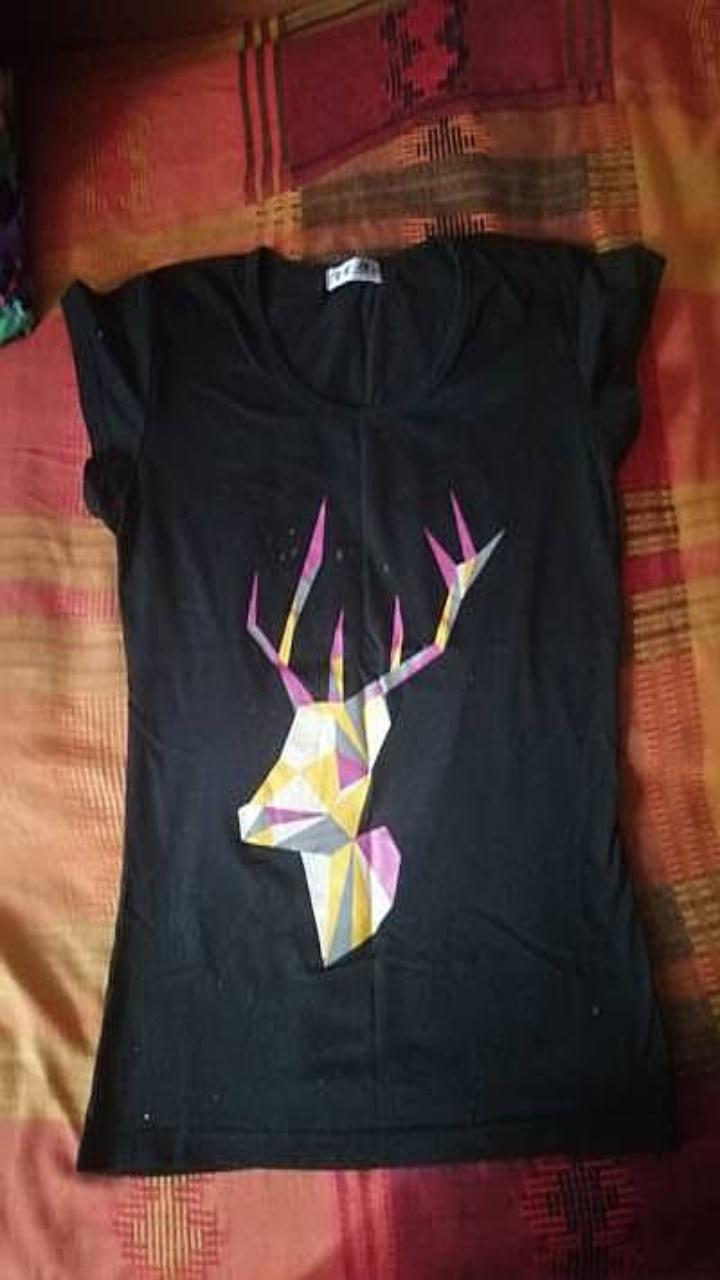T-Shirt: (62, 233, 676, 1173)
